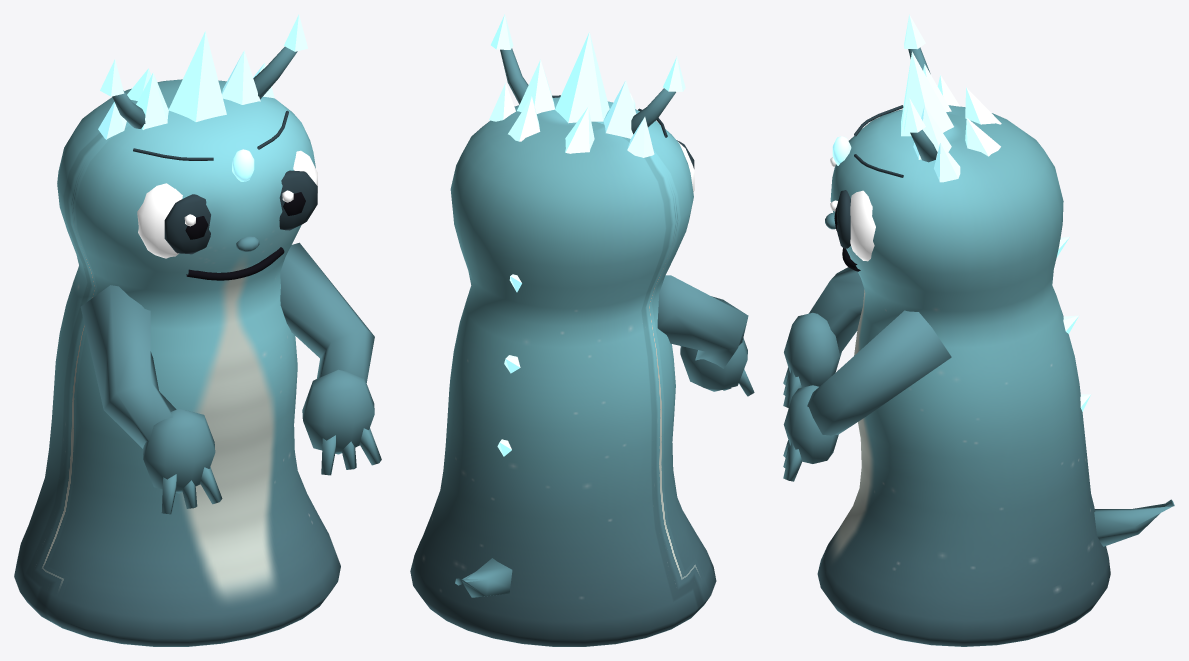
File: esquirla-helada_pixar.glb
3 views of the same model, side by side, from view 1: azimuth 30°, elevation 25°; view 2: azimuth 150°, elevation 25°; view 3: azimuth 270°, elevation 25° (orthographic). The views are drawn at different scales.
Parts seen in each view (by area): view 1: esquirla-helada_cuerpo; view 2: esquirla-helada_cuerpo; view 3: esquirla-helada_cuerpo.
Boxes of the visible parts, <box> form: esquirla-helada_cuerpo: <box>14,14,381,646</box>; esquirla-helada_cuerpo: <box>410,14,754,646</box>; esquirla-helada_cuerpo: <box>783,14,1174,646</box>.
Bounding box in the file's own units: 0.3035 × 0.58 × 0.3856.
Materials: 5 (1 with a texture image).
